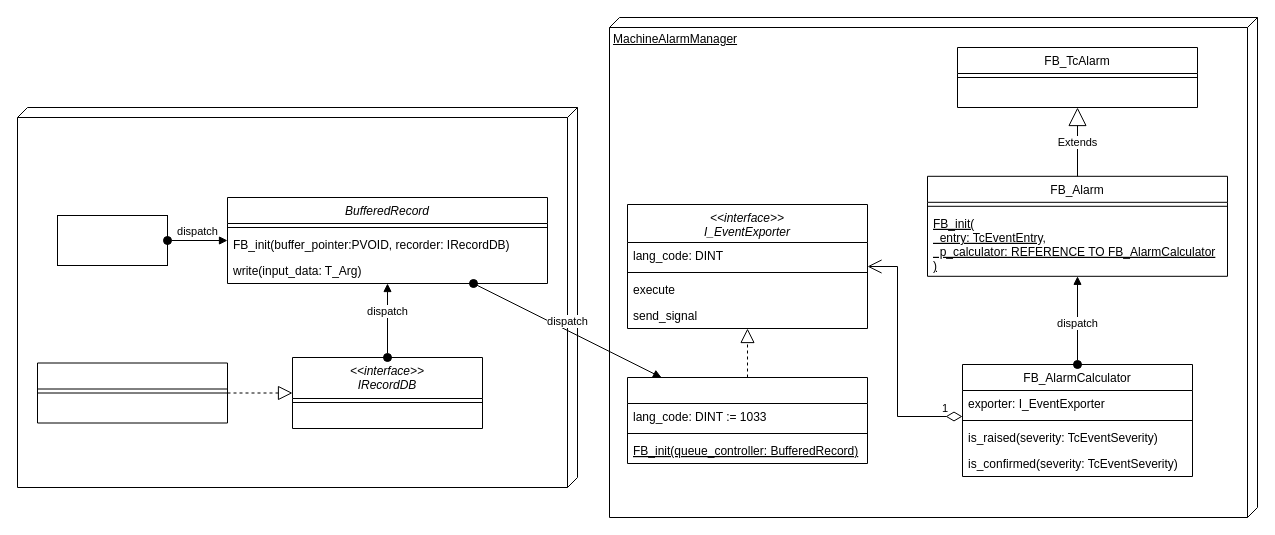
Some shapes in this 1275 by 535 pixel diagram are drawn without their labels. Each missing label, with the box of its shape:
<<ARRAY>> data buffer: (56, 214, 168, 266)
FB_AlarmDBExporter: (626, 376, 868, 464)
RecordInfluxDB: (36, 362, 228, 423)
tc_influxdb_client: (16, 106, 578, 488)
